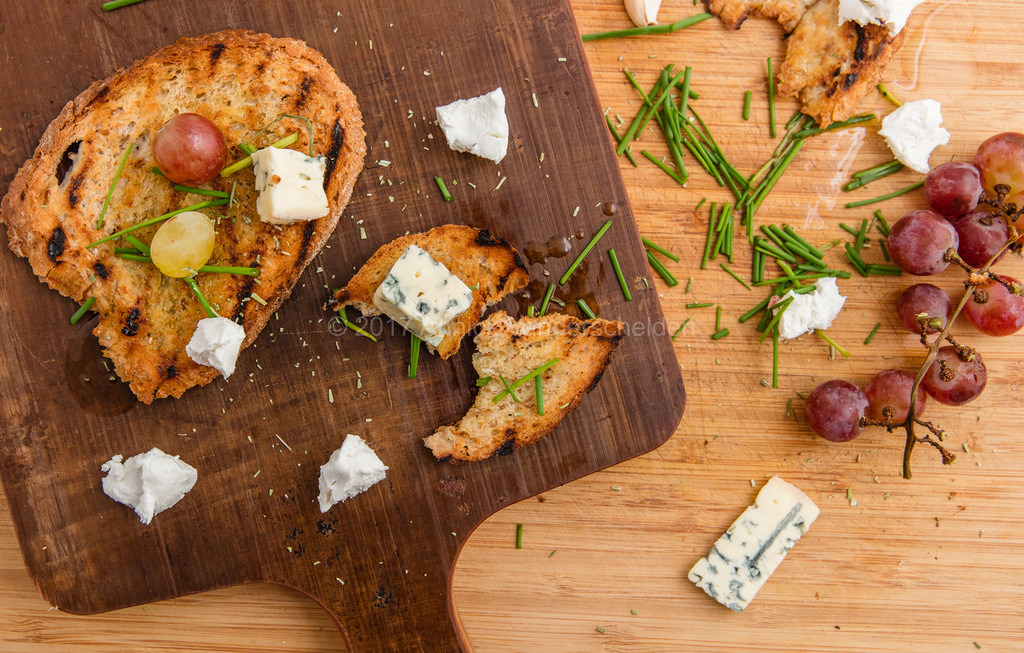slice of bread: (9, 46, 358, 408)
